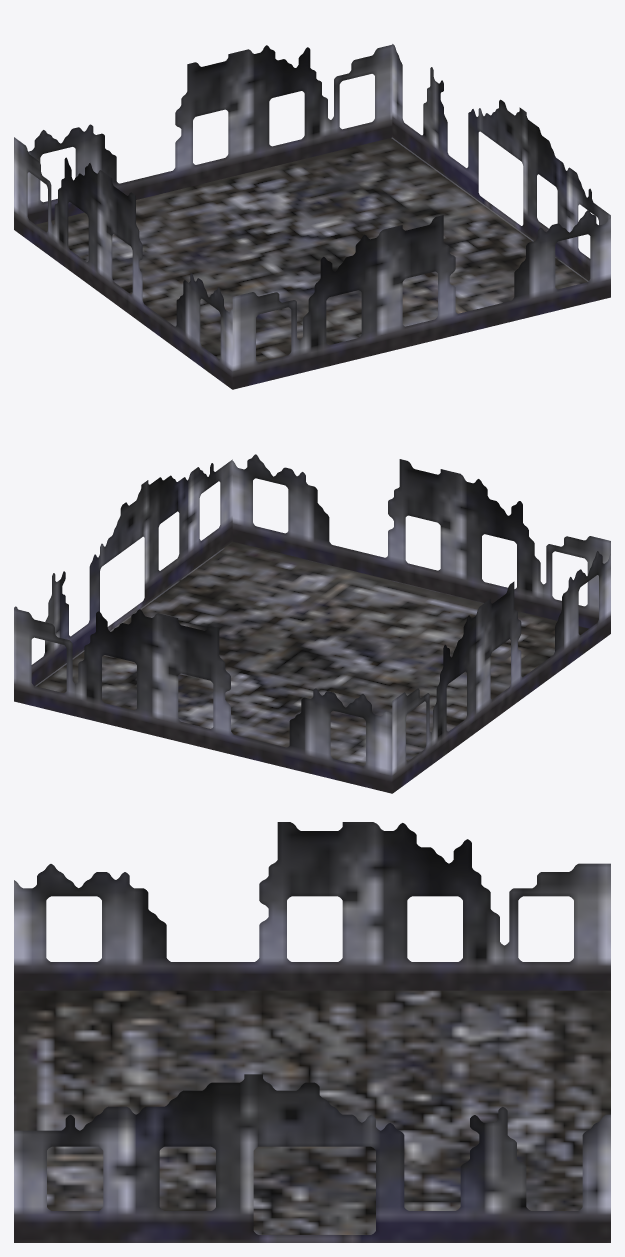
Rendered from city8storyc_dam.glb.
3 renders of one model, top to bottom at view 1: azimuth 30°, elevation 25°; view 2: azimuth 150°, elevation 25°; view 3: azimuth 270°, elevation 25°, orthographic. The views are drawn at different scales.
Parts seen in each view (by area): view 1: City2StoryA; view 2: City2StoryA; view 3: City2StoryA.
Part boxes in pixels (<box>): City2StoryA: <box>14,44,610,389</box>; City2StoryA: <box>14,454,610,793</box>; City2StoryA: <box>14,822,610,1242</box>.
Size of the model in its own units: 17.76 by 5.53 by 17.76.
Materials: 1 (1 with a texture image).
